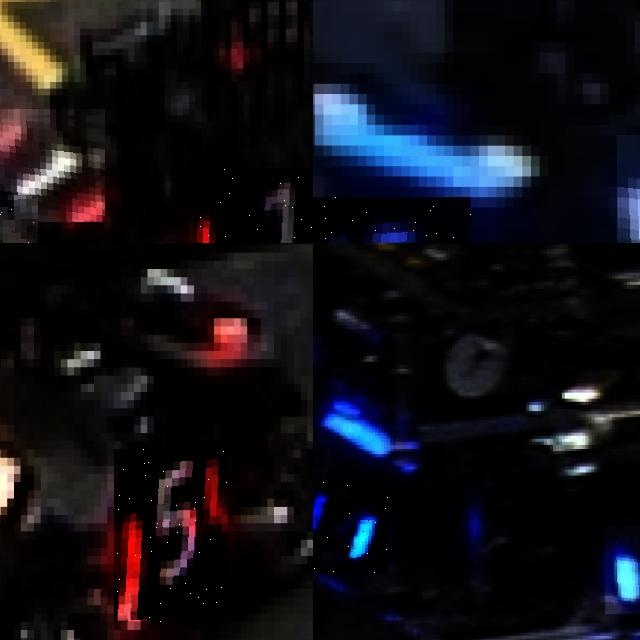B2: (313, 481, 388, 574), (604, 525, 640, 614)
B5: (313, 197, 470, 243)
R1: (0, 108, 104, 222), (195, 168, 313, 243)
R5: (114, 449, 227, 622)
